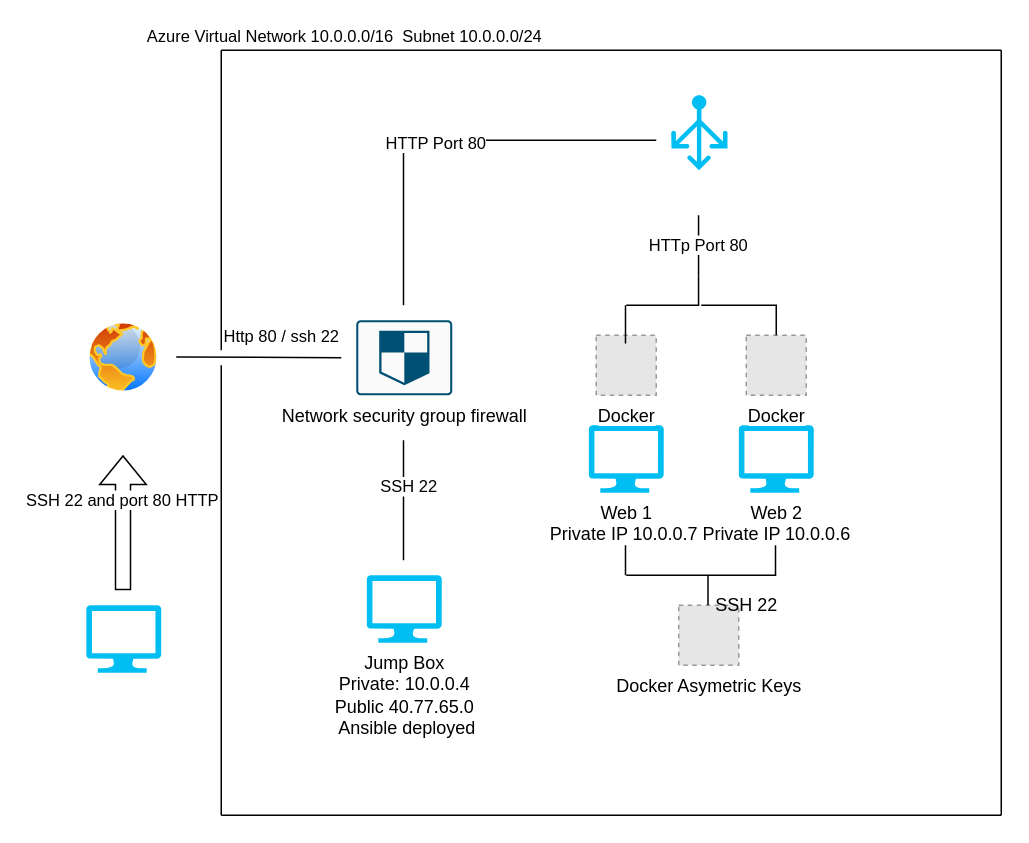
Image size: 1029x843. Some labels were removed from this diagram. Grey dashed boxes stand in for pictures. The shapes that lost their labels are listed below. From the top down, each one's centre as x and y in pixels, then its label:
At pixel 698 132: "Load Balancer Public IP 23.100.83.106".
At pixel 123 357: "Internet".
At pixel 123 638: "IP 66.41.229.183 Asymetric Keys".
